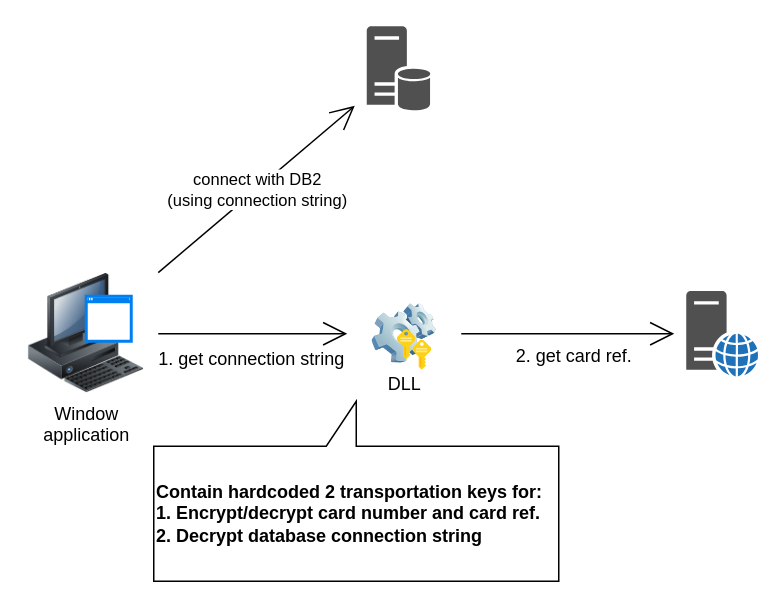
Some shapes in this 783 by 608 pixel diagram are drawn without their labels. The shapes that lost their labels are listed below. From the top down, each one's box as (x1, y1, x2, y2) in pixels, then its label:
(366, 26, 430, 110): DB2 Database
(686, 290, 758, 376): Web API Server
